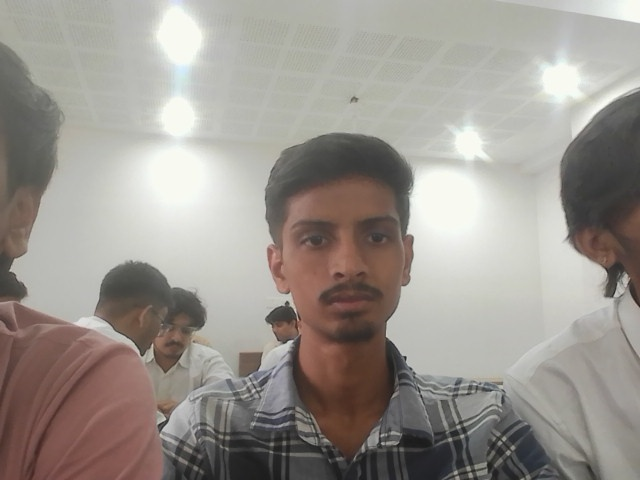light_on: (443, 114, 495, 165), (151, 87, 203, 133), (542, 66, 570, 94), (615, 5, 636, 25)
person: (0, 57, 166, 478), (492, 101, 639, 479), (81, 262, 234, 429), (256, 305, 298, 372)
